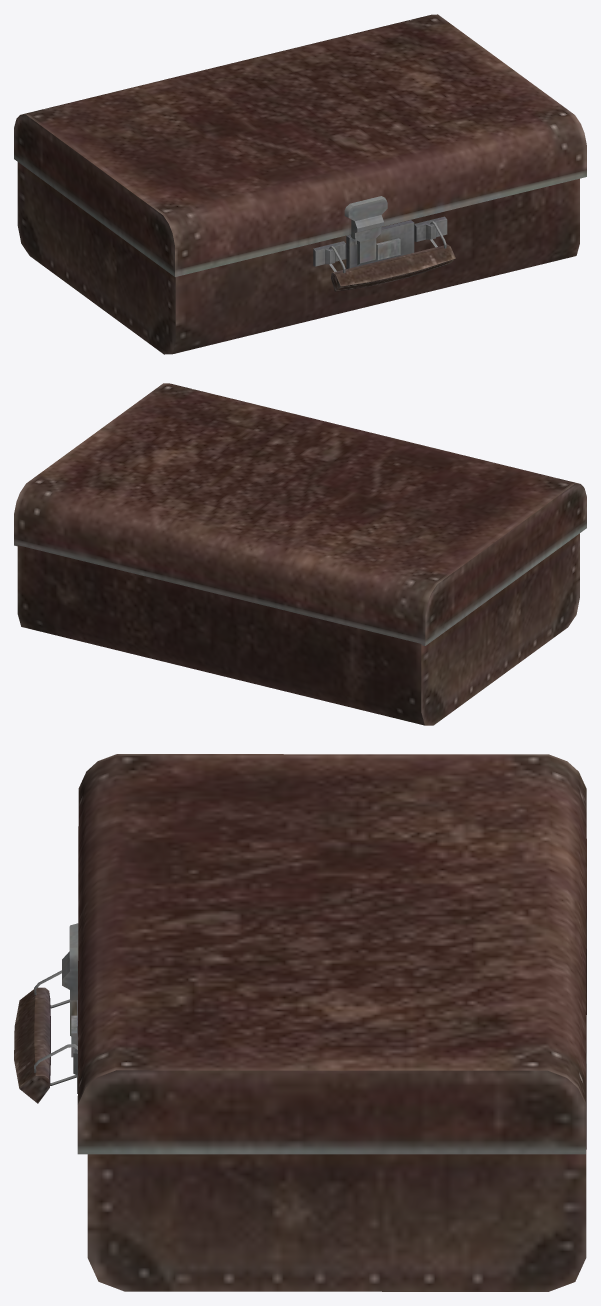
The model's file is Suitcase1.fbx.
3 views of the same model, one above another, from view 1: azimuth 30°, elevation 25°; view 2: azimuth 150°, elevation 25°; view 3: azimuth 270°, elevation 25° (orthographic). The views are drawn at different scales.
Parts seen in each view (by area): view 1: SuitCase.001; view 2: SuitCase.001; view 3: SuitCase.001.
Part boxes in pixels (x1,y1,x2,y2): SuitCase.001: (14, 14, 586, 354); SuitCase.001: (14, 383, 586, 725); SuitCase.001: (14, 754, 586, 1291).
Size of the model in its own units: 0.5977 by 0.1973 by 0.4571.
Materials: 1 (1 with a texture image).
